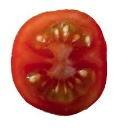tomato: (11, 7, 107, 114)
